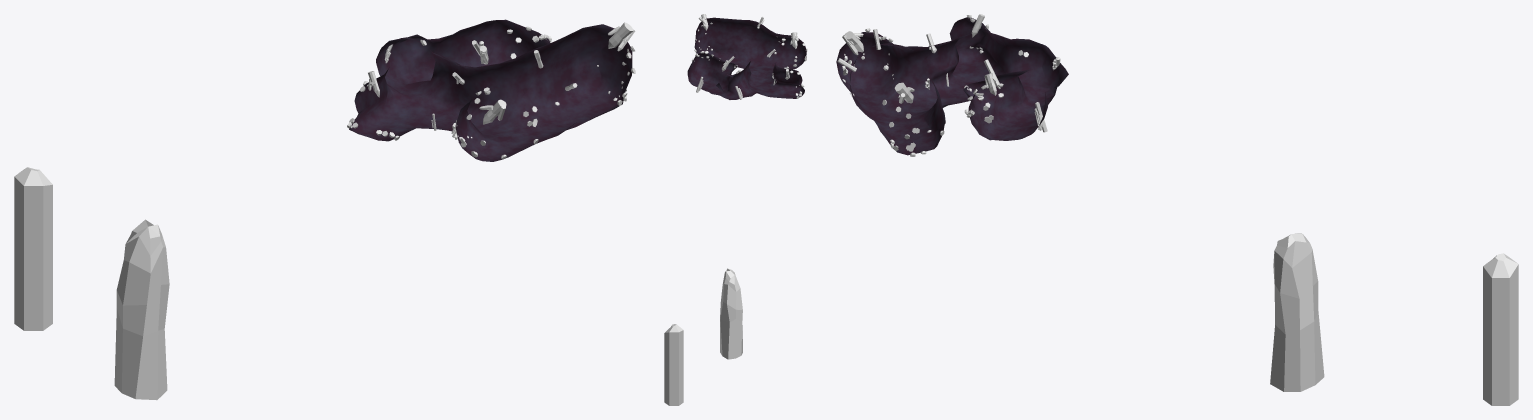
File: ALLCave1-WallCrystals(2)WithCave.fbx
The picture shows the model from 3 angles, left to right: view 1: azimuth 30°, elevation 25°; view 2: azimuth 150°, elevation 25°; view 3: azimuth 270°, elevation 25°; orthographic projection. The views are drawn at different scales.
Visible parts, largest first — view 1: Mball.177, Cylinder.032, Cylinder.030; view 2: Mball.177, Cylinder.032, Cylinder.030; view 3: Mball.177, Cylinder.032, Cylinder.030.
Boxes of the visible parts, bbox=[...] form: Mball.177: bbox=[349, 19, 632, 161]; Cylinder.032: bbox=[114, 219, 169, 400]; Cylinder.030: bbox=[14, 167, 52, 330]; Mball.177: bbox=[687, 17, 806, 99]; Cylinder.032: bbox=[720, 268, 742, 359]; Cylinder.030: bbox=[664, 324, 683, 405]; Mball.177: bbox=[836, 17, 1068, 155]; Cylinder.032: bbox=[1270, 233, 1324, 391]; Cylinder.030: bbox=[1483, 253, 1518, 405].
Size of the model in its own units: 4293 by 6580 by 9171.
